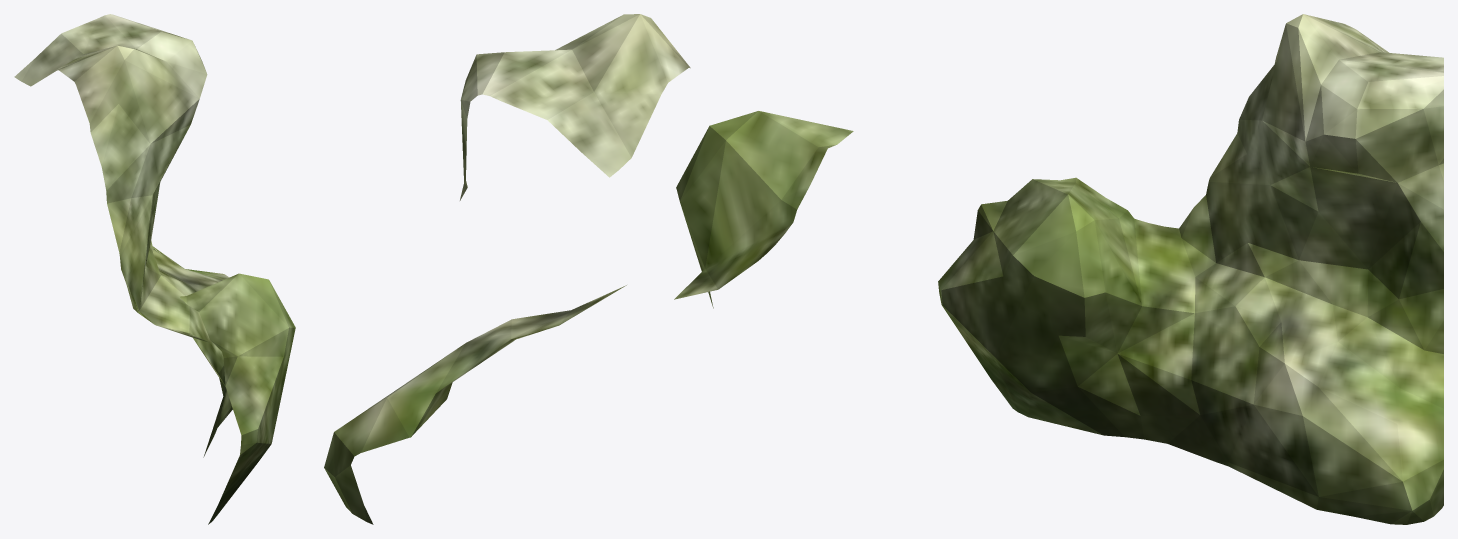
3 views of the same model, side by side, from view 1: azimuth 30°, elevation 25°; view 2: azimuth 150°, elevation 25°; view 3: azimuth 270°, elevation 25° (orthographic). The views are drawn at different scales.
Bounding box in the file's own units: 0.6335 × 0.9837 × 1.08.
Materials: 1 (1 with a texture image).
